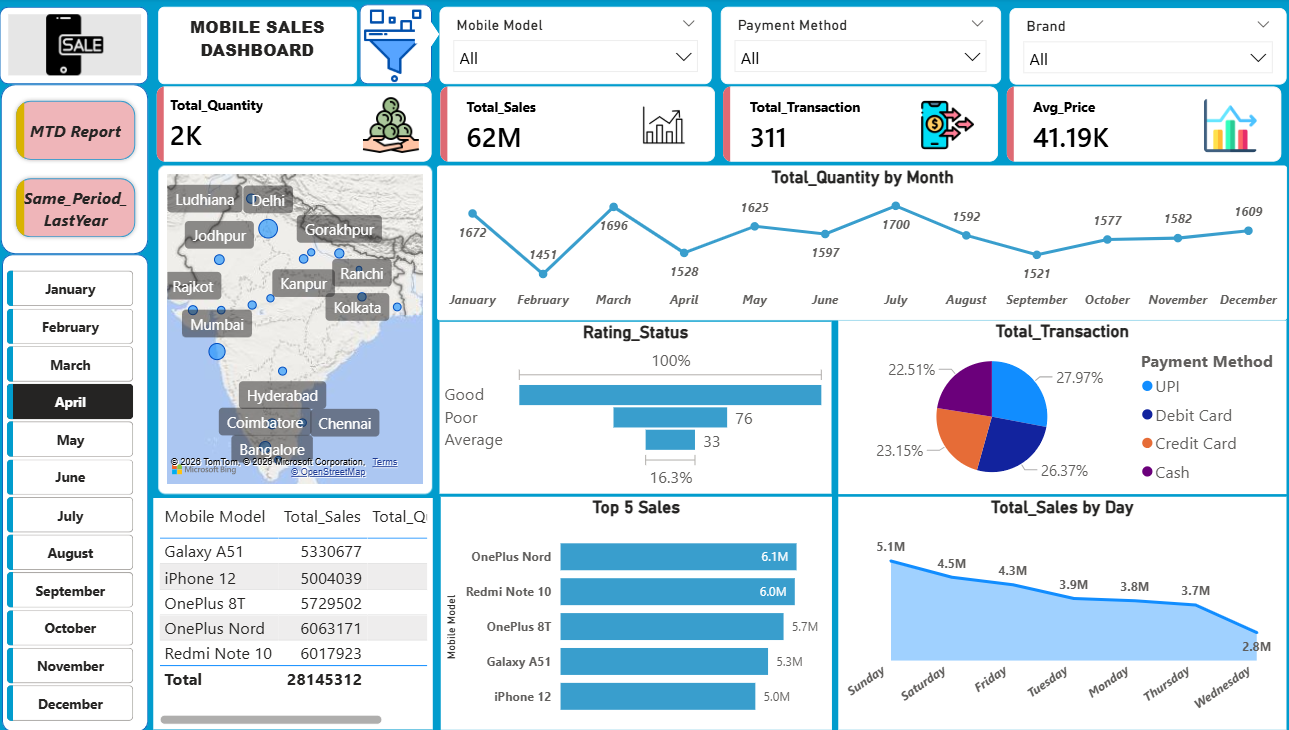

This screenshot's page, from the dashboard's own definition file:
{"tool":"powerbi","page":{"name":"Dashboard","canvas":[1280,720],"ordinal":0},"visuals":[{"type":"shape","box":[2.5,8.6,146,76.1],"z":0},{"type":"shape","box":[3.7,84.7,144.8,166.9],"z":1000},{"type":"shape","box":[4.9,251.5,143.6,468.7],"z":2000},{"type":"advancedSlicerVisual","fields":{"Values":["Custom_Date.Date.Variation.Date Hierarchy.Month"]},"box":[4.9,262.6,135,457.7],"z":3000},{"type":"cardVisual","fields":{"Data":["Mobile_Sales_Data.Total_Quantity","Mobile_Sales_Data.Total_Sales","Mobile_Sales_Data.Total_Transaction","Mobile_Sales_Data.Avg_Price"]},"box":[140,70,1140,108],"z":4000},{"type":"slicer","fields":{"Values":["Mobile_Sales_Data.Mobile Model"]},"box":[434.4,8.6,267.5,76.1],"z":5000},{"type":"slicer","fields":{"Values":["Mobile_Sales_Data.Payment Method"]},"box":[710.4,8.6,274.8,76.1],"z":6000},{"type":"slicer","fields":{"Values":["Mobile_Sales_Data.Brand"]},"box":[994,10,272,75],"z":7000},{"type":"shape","box":[355.8,6.1,71.2,78.5],"z":8000},{"type":"image","box":[353.4,8.6,73.6,76.1],"z":9000},{"type":"shape","box":[409.8,17.2,24.5,36.8],"z":10000},{"type":"textbox","box":[158.3,8.6,195.1,76.1],"z":11000},{"type":"map","fields":{"Category":["Mobile_Sales_Data.City"],"Size":["Mobile_Sales_Data.Total_Sales"]},"box":[158,164,269,322],"z":12000},{"type":"lineChart","fields":{"Category":["Custom_Date.Date.Variation.Date Hierarchy.Month"],"Y":["Mobile_Sales_Data.Total_Quantity"]},"box":[432,164,834,152],"z":13000},{"type":"funnel","title":" Rating_Status ","fields":{"Category":["Mobile_Sales_Data.Rating_Status"],"Y":["CountNonNull(Mobile_Sales_Data.Rating_Status)"]},"box":[434,318,385,169],"z":14000},{"type":"pieChart","title":"Total_Transaction ","fields":{"Y":["Mobile_Sales_Data.Total_Transaction"],"Category":["Mobile_Sales_Data.Payment Method"]},"box":[826,317,440,170],"z":15000},{"type":"clusteredBarChart","title":"Top 5 Sales","fields":{"Category":["Mobile_Sales_Data.Mobile Model"],"Y":["Mobile_Sales_Data.Total_Sales"]},"box":[435,489,384,229],"z":16000},{"type":"areaChart","title":"Total_Sales by Day","fields":{"Category":["Custom_Date.Day Name"],"Y":["Mobile_Sales_Data.Total_Sales"]},"box":[826,489,440,229],"z":17000},{"type":"tableEx","fields":{"Values":["Mobile_Sales_Data.Mobile Model","Mobile_Sales_Data.Total_Sales","Mobile_Sales_Data.Total_Quantity"]},"box":[153,491,274,227],"z":18000},{"type":"pageNavigator","box":[14.7,96.9,125.2,143.6],"z":19000},{"type":"image","box":[11,16,130.1,60.1],"z":20000}]}

Visuals, with their boxes in screenshot pixels (x1, y1, x2, y2), scaled from the page's 1280x720 canvas onto the 1289x730 screenshot:
shape: [x1=3, y1=9, x2=150, y2=86]
shape: [x1=4, y1=86, x2=150, y2=255]
shape: [x1=5, y1=255, x2=150, y2=729]
advancedSlicerVisual - Custom_Date.Date.Variation.Date Hierarchy.Month: [x1=5, y1=266, x2=141, y2=729]
cardVisual - Mobile_Sales_Data.Total_Quantity x Mobile_Sales_Data.Total_Sales: [x1=141, y1=71, x2=1288, y2=180]
slicer - Mobile_Sales_Data.Mobile Model: [x1=437, y1=9, x2=707, y2=86]
slicer - Mobile_Sales_Data.Payment Method: [x1=715, y1=9, x2=992, y2=86]
slicer - Mobile_Sales_Data.Brand: [x1=1001, y1=10, x2=1275, y2=86]
shape: [x1=358, y1=6, x2=430, y2=86]
image: [x1=356, y1=9, x2=430, y2=86]
shape: [x1=413, y1=17, x2=437, y2=55]
textbox: [x1=159, y1=9, x2=356, y2=86]
map - Mobile_Sales_Data.City x Mobile_Sales_Data.Total_Sales: [x1=159, y1=166, x2=430, y2=493]
lineChart - Custom_Date.Date.Variation.Date Hierarchy.Month x Mobile_Sales_Data.Total_Quantity: [x1=435, y1=166, x2=1275, y2=320]
" Rating_Status " funnel: [x1=437, y1=322, x2=825, y2=494]
"Total_Transaction " pieChart: [x1=832, y1=321, x2=1275, y2=494]
"Top 5 Sales" clusteredBarChart: [x1=438, y1=496, x2=825, y2=728]
"Total_Sales by Day" areaChart: [x1=832, y1=496, x2=1275, y2=728]
tableEx - Mobile_Sales_Data.Mobile Model x Mobile_Sales_Data.Total_Sales: [x1=154, y1=498, x2=430, y2=728]
pageNavigator: [x1=15, y1=98, x2=141, y2=244]
image: [x1=11, y1=16, x2=142, y2=77]
